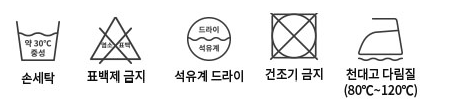KR_dry_clean_petroleum: (184, 13, 234, 64)
KR_hand_wash_30_neutral: (12, 17, 64, 66)
KR_no_chlorine_bleach: (86, 12, 147, 67)
KR_no_tumble_dry: (266, 10, 322, 64)
